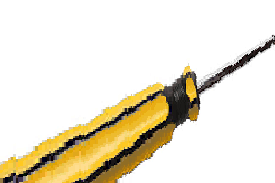screwdriver: (1, 36, 275, 183)
